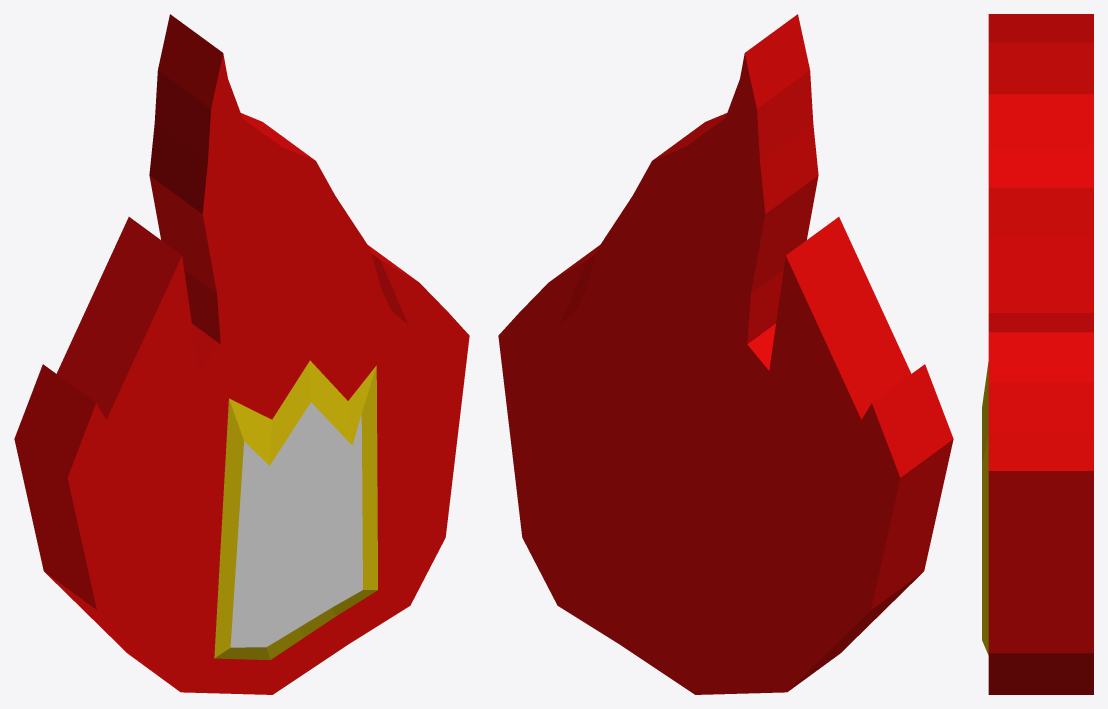
The model's file is feu.fbx.
The picture shows the model from 3 angles, left to right: view 1: azimuth 30°, elevation 25°; view 2: azimuth 150°, elevation 25°; view 3: azimuth 270°, elevation 25°; orthographic projection.
Visible parts, largest first — view 1: Feu; view 2: Feu; view 3: Feu.
Part boxes in pixels (<box>): Feu: <box>14,14,469,694</box>; Feu: <box>498,14,953,694</box>; Feu: <box>982,14,1093,694</box>.
Size of the model in its own units: 19.12 by 29.72 by 4.67.
